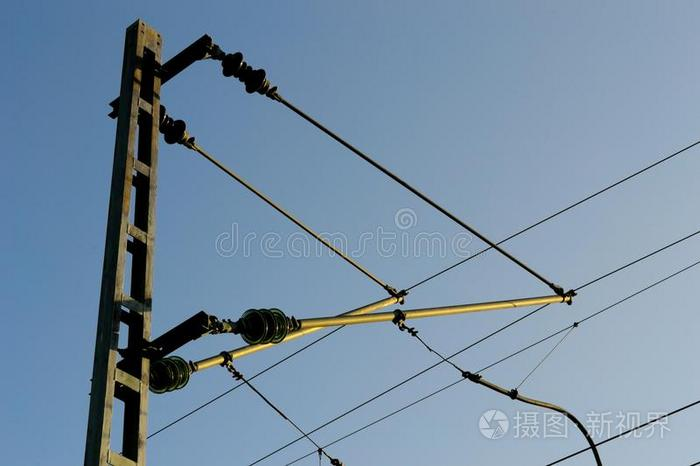insulator: (238, 306, 290, 345), (151, 355, 190, 395)
